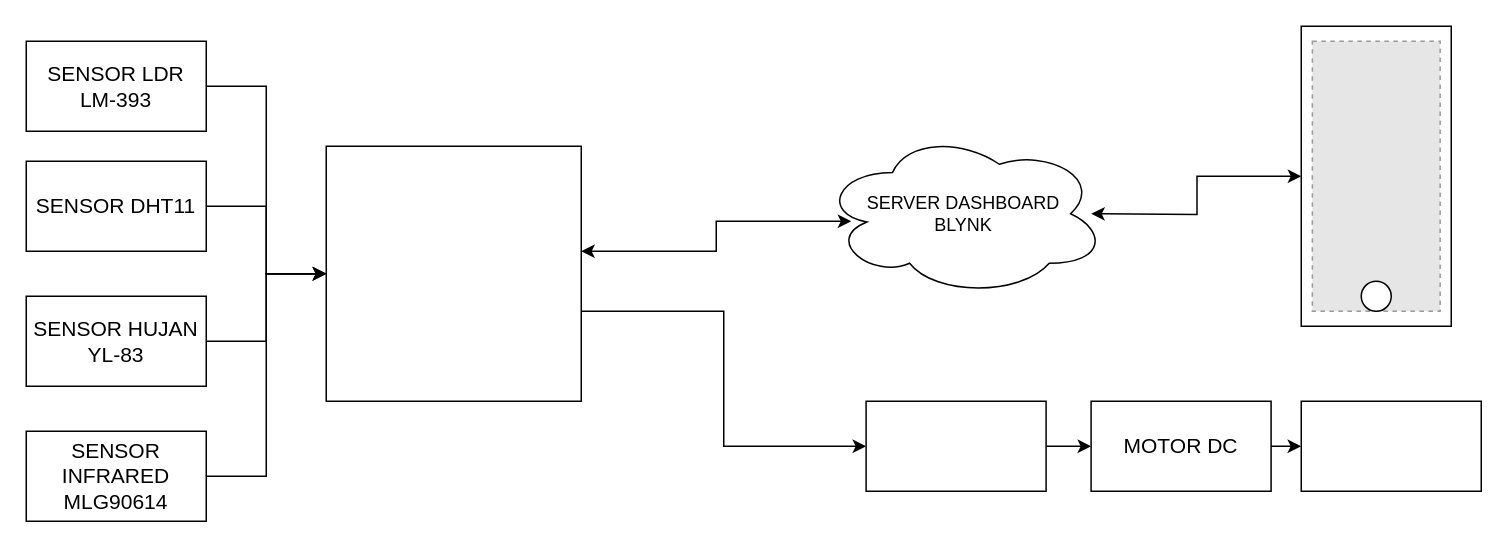
Some shapes in this 1508 by 548 pixel diagram are drawn without their labels. Grey dashed boxes stand in for pictures. Here are the shapes that lost their labels. From the top down, the centre of each, then its label:
At (453,273): "ESP8266".
At (955,445): "MOTOR DRIVER L298N".
At (1390,445): "JEMURAN".
